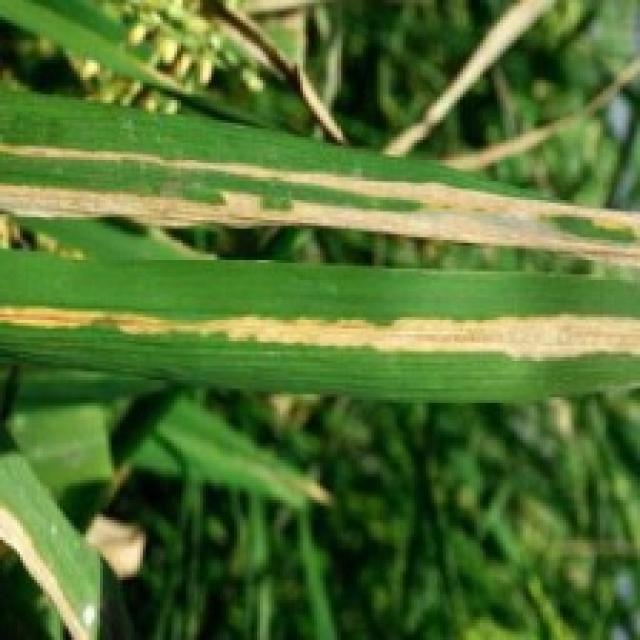Rice___Bacterial_Leaf_Blight: (0, 88, 637, 266), (0, 247, 637, 408)
